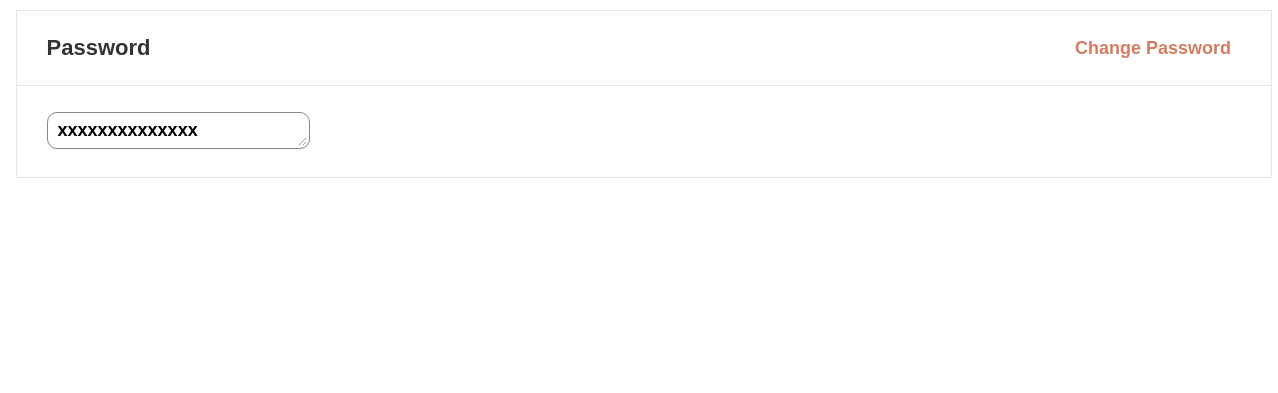
forgot password › asks for a reset email and says where it went
Click the button "Change Password": [1152, 48] box [1072,37,1232,59]
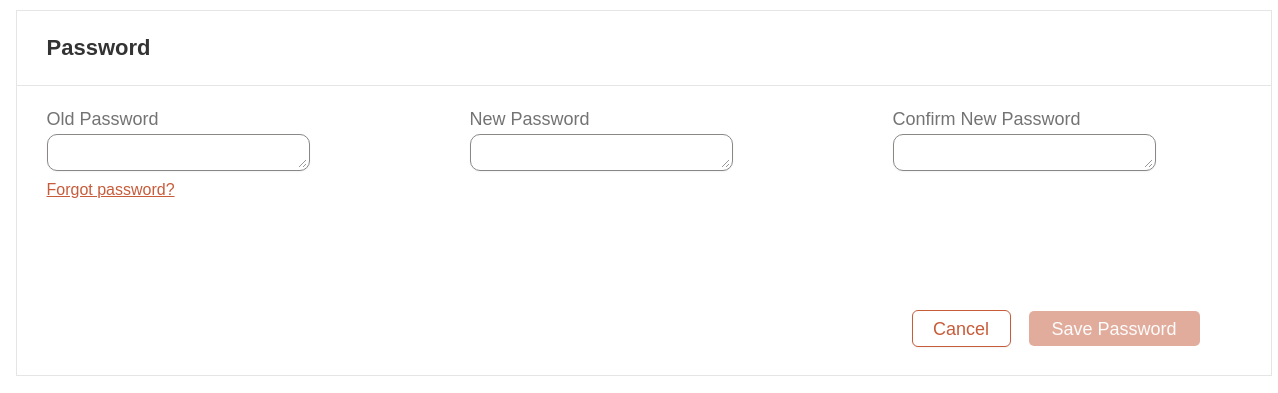
Click the button "Forgot password?": [111, 190] box [46,171,175,208]
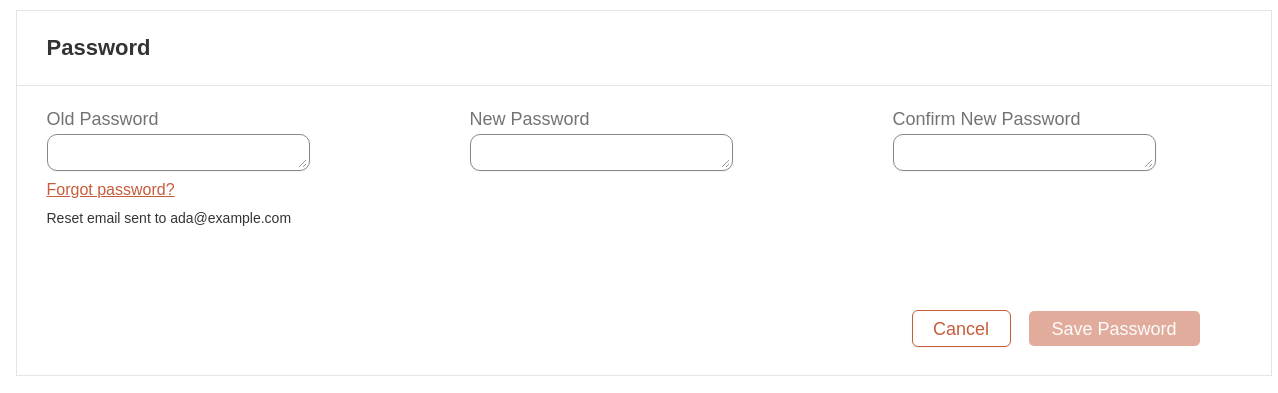
Check: the text "Reset email sent to ada@example.com" is shown, box [46,208,310,228]
